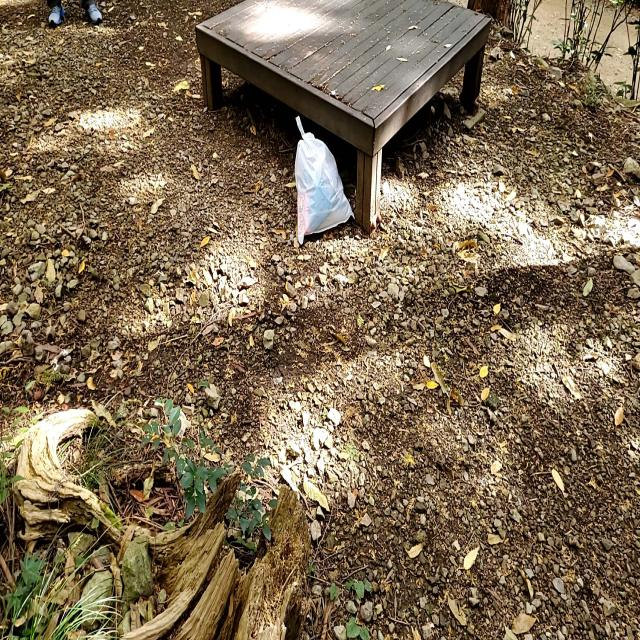garbage bag: (292, 114, 355, 246)
